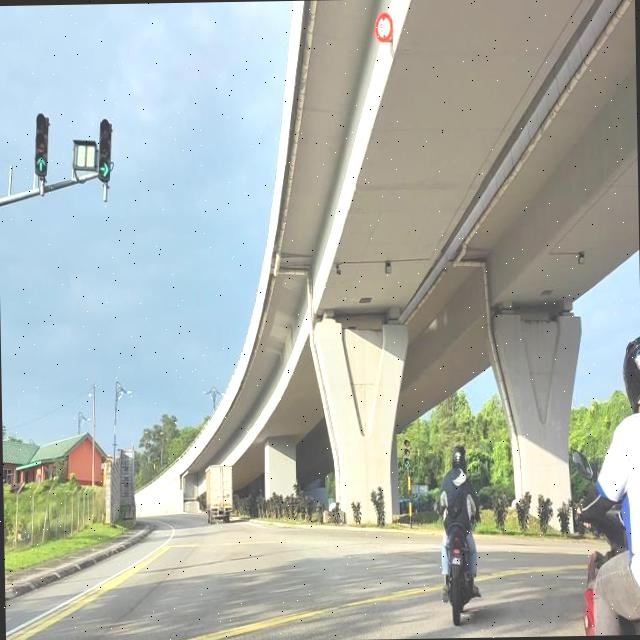green_light: (32, 111, 50, 178), (96, 116, 112, 180), (403, 435, 410, 466)
